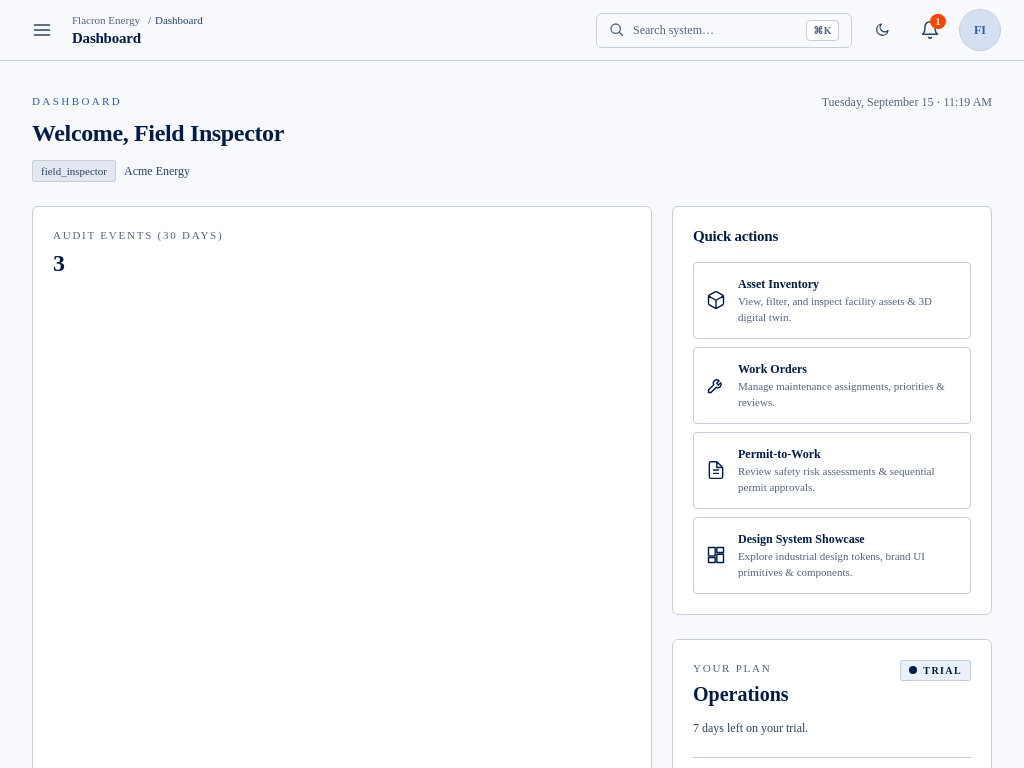
app shell › opens a focus-trapped mobile drawer that closes on escape and route change
The image size is (1024, 768).
Click the button named "Open navigation menu" at point(42, 30), box x1=24 y1=12 x2=60 y2=48
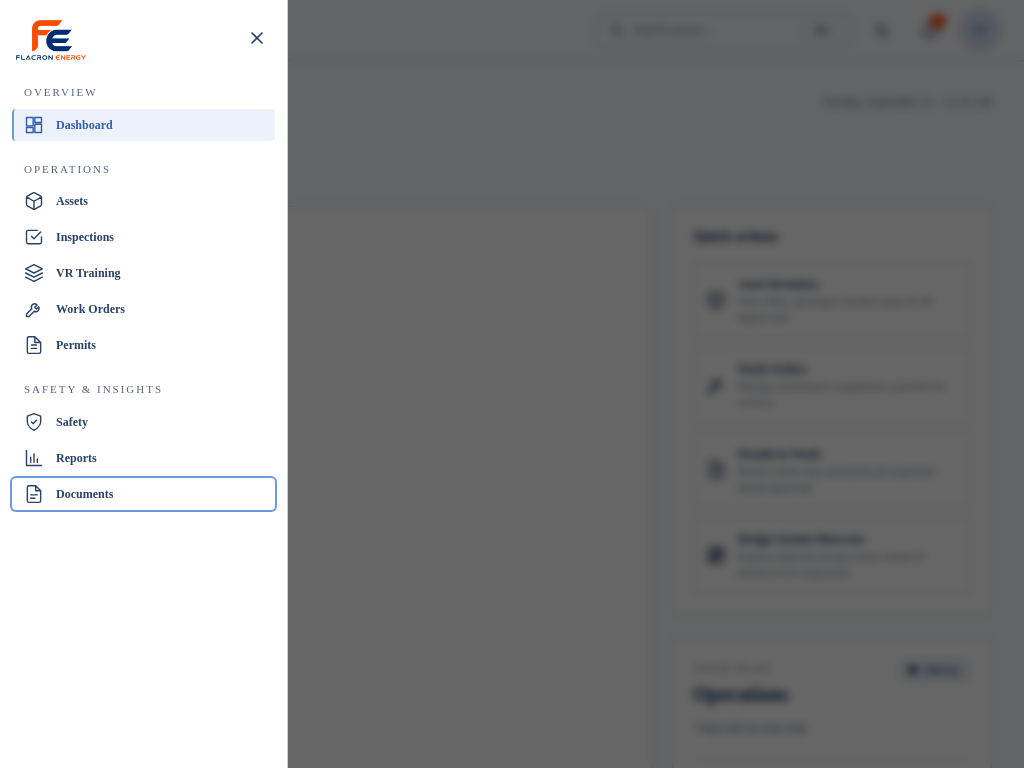
Press Tab
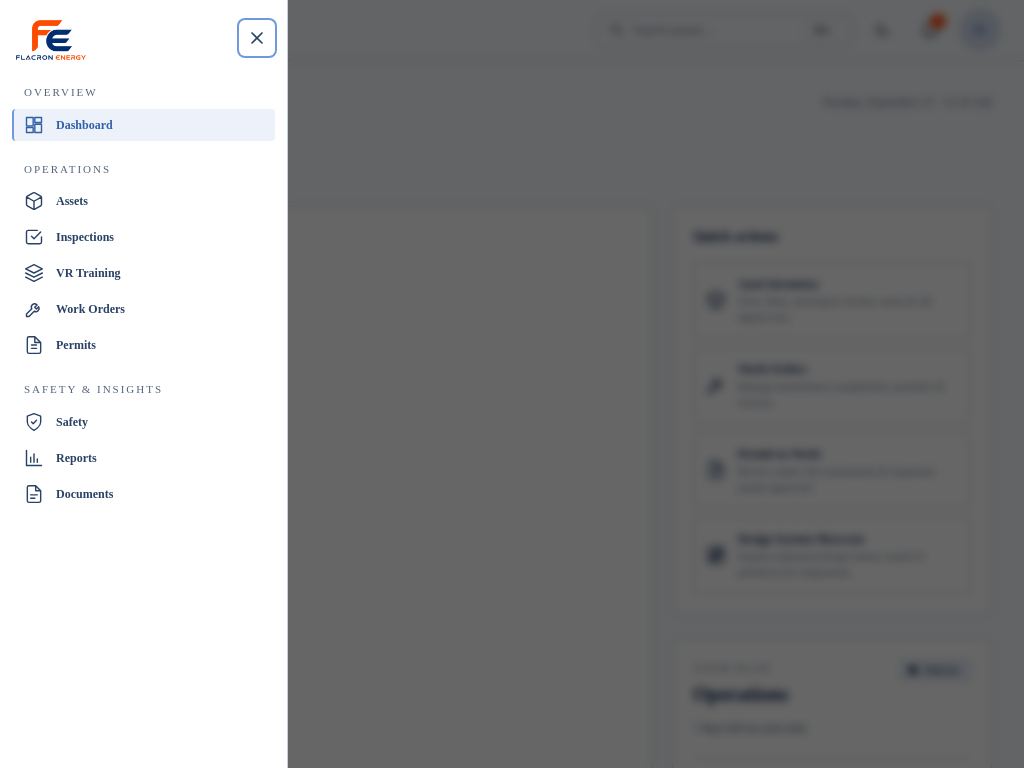
Press Escape
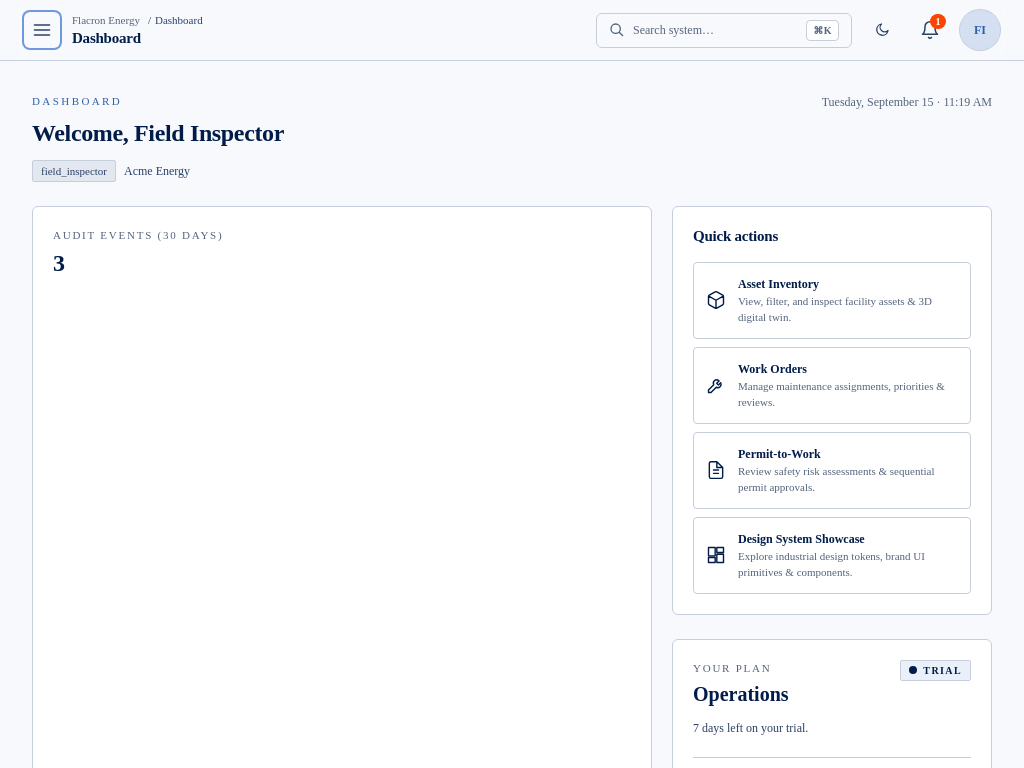
Expected: the dialog is gone
Click the button named "Open navigation menu" at point(42, 30), box x1=24 y1=12 x2=60 y2=48
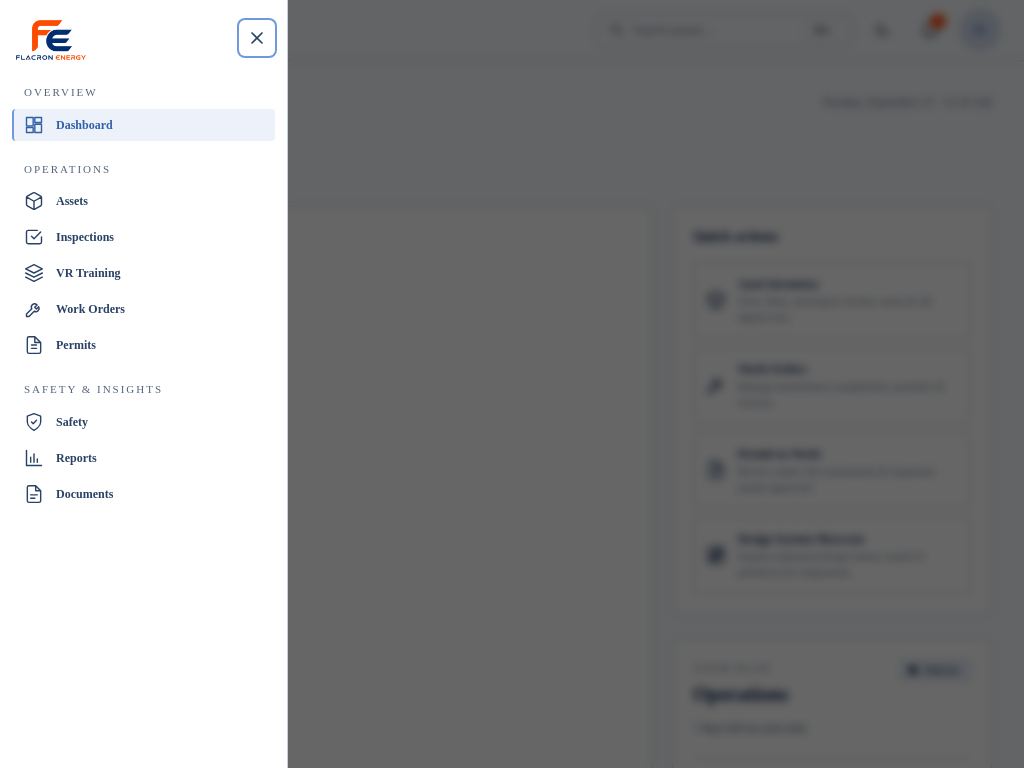
Click the link "Safety" at point(56, 422), box x1=24 y1=412 x2=88 y2=432
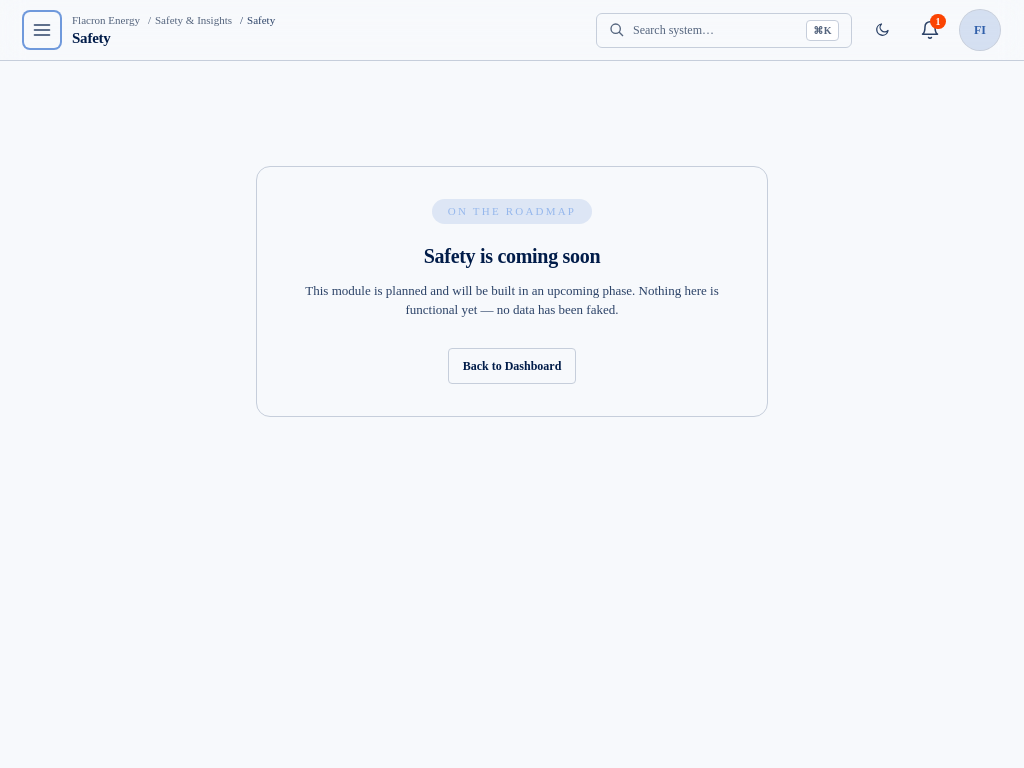
Expected: the dialog is gone
Expected: the heading "Safety is coming soon" is shown, x1=424 y1=245 x2=600 y2=267
